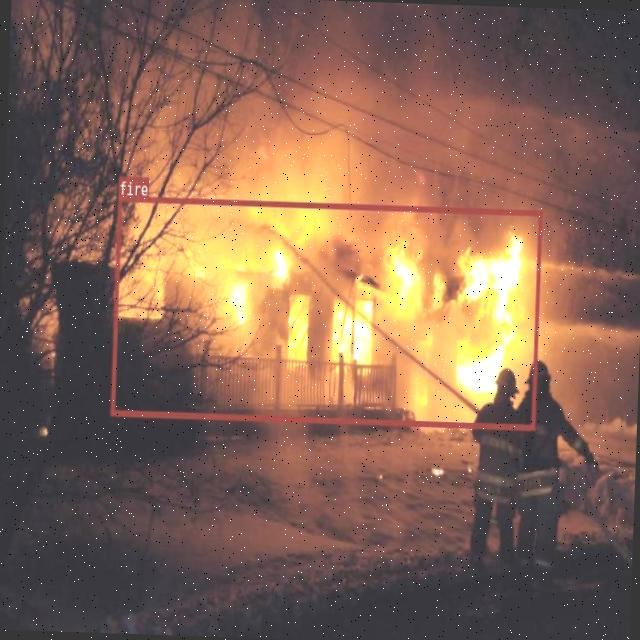fire: (110, 194, 542, 429)
